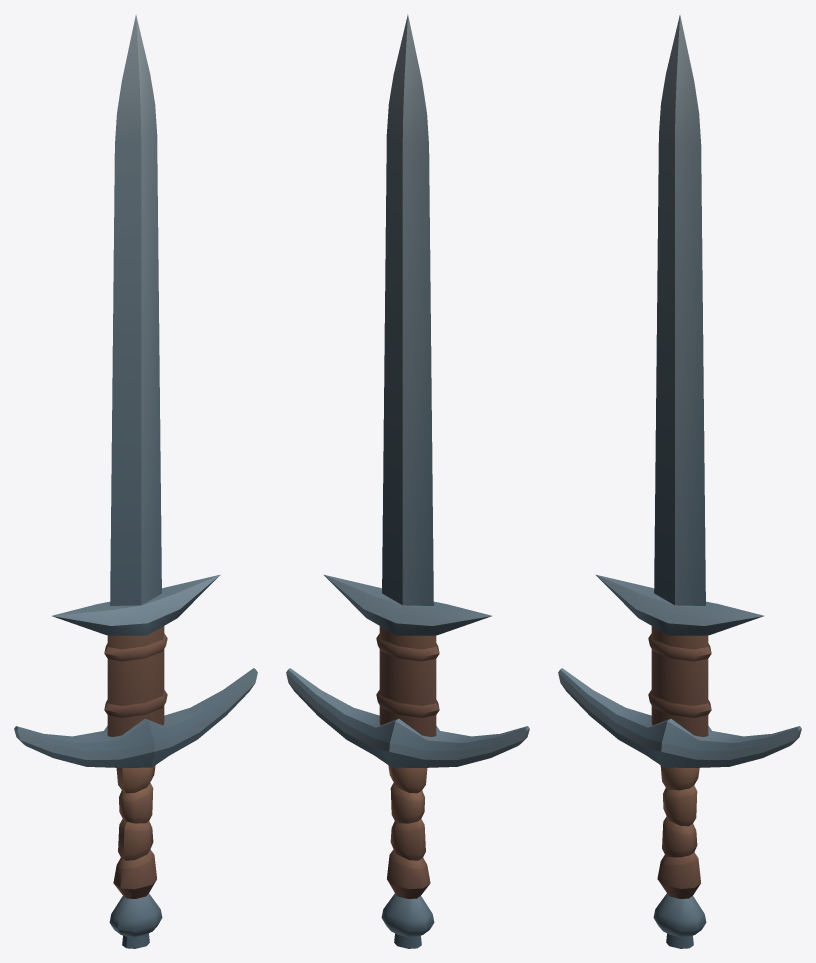
Rendered from sword_E.glb.
3 renders of one model, left to right at view 1: azimuth 30°, elevation 25°; view 2: azimuth 150°, elevation 25°; view 3: azimuth 330°, elevation 25°, orthographic.
Parts seen in each view (by area): view 1: sword_E; view 2: sword_E; view 3: sword_E.
Boxes of the visible parts, x1,y1,x2,y2 form: sword_E: (14, 14, 257, 948); sword_E: (286, 14, 529, 948); sword_E: (558, 15, 801, 948).
Bounding box in the file's own units: 0.8795 × 3.25 × 0.237.
1 material, 1 textured.
